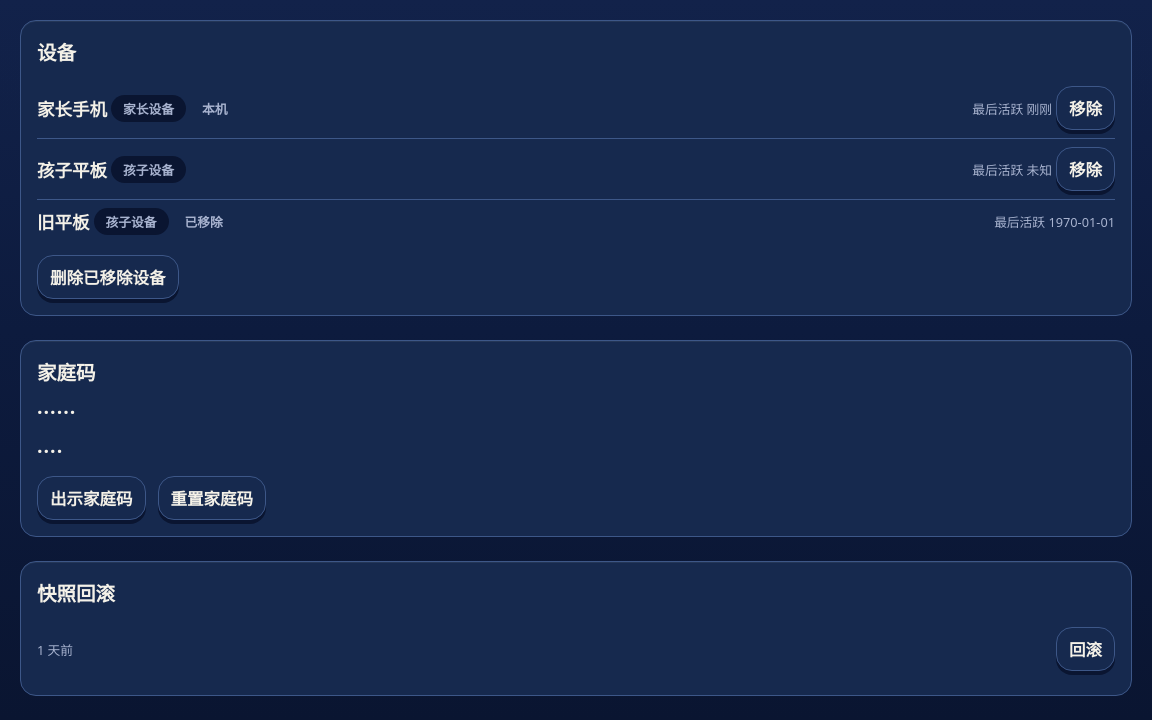
#127 家庭码 › 家庭口令未设置（worker 返回 passphrase null）→ 明确「未设置」态文案，不显示空白（#192）
Click the button with class "btn-code-show".
click(91, 498)  # box top-left (37, 476), bottom-right (146, 520)
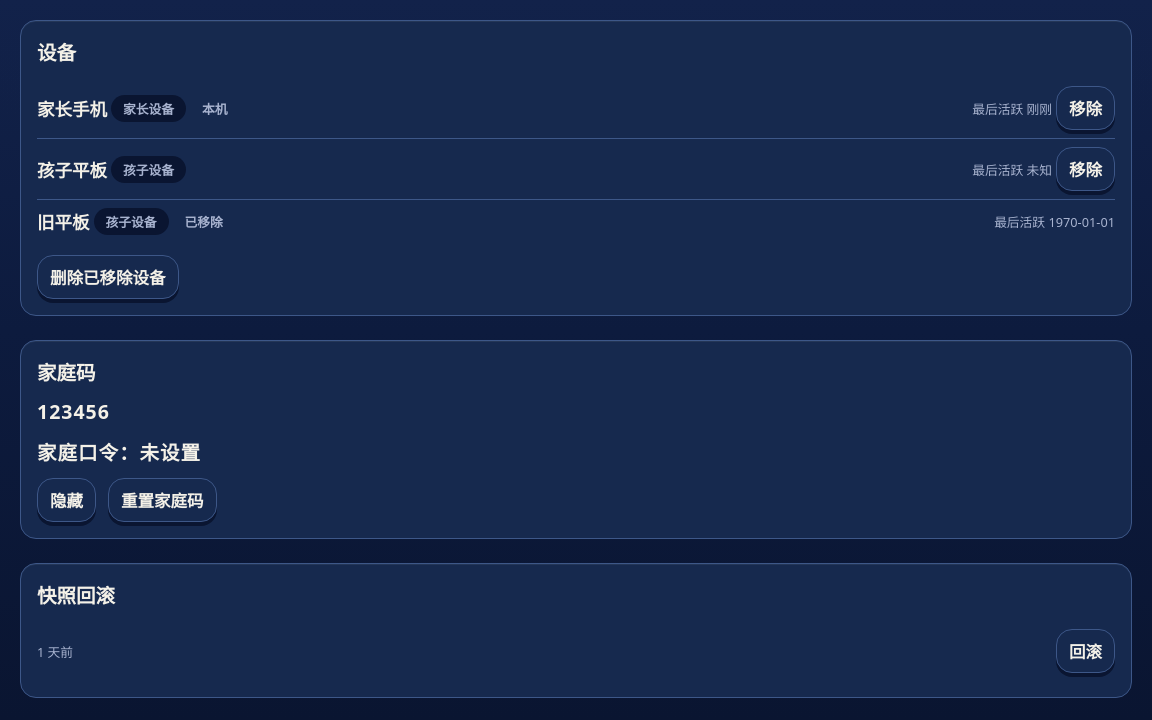
expect the text with class "family-code-value" reads "123456": met, box top-left (37, 398), bottom-right (110, 425)
expect the text with class "family-passphrase-value" reads "家庭口令：未设置": met, box top-left (37, 439), bottom-right (201, 466)
expect the text with class "family-passphrase-value" shows "未设置": met, box top-left (37, 439), bottom-right (201, 466)
